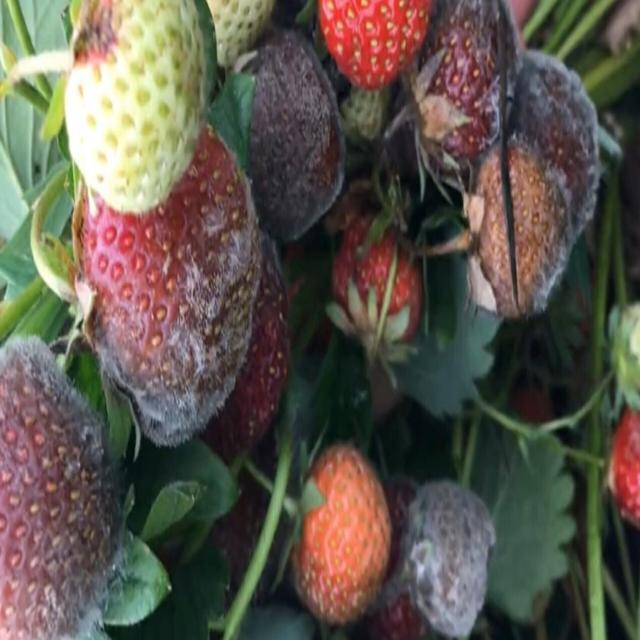Moho gris: (77, 132, 261, 444), (0, 312, 119, 628), (227, 36, 346, 247), (403, 0, 518, 168), (504, 43, 600, 233), (291, 444, 392, 620), (471, 144, 570, 318), (410, 454, 500, 640), (211, 241, 288, 452)
